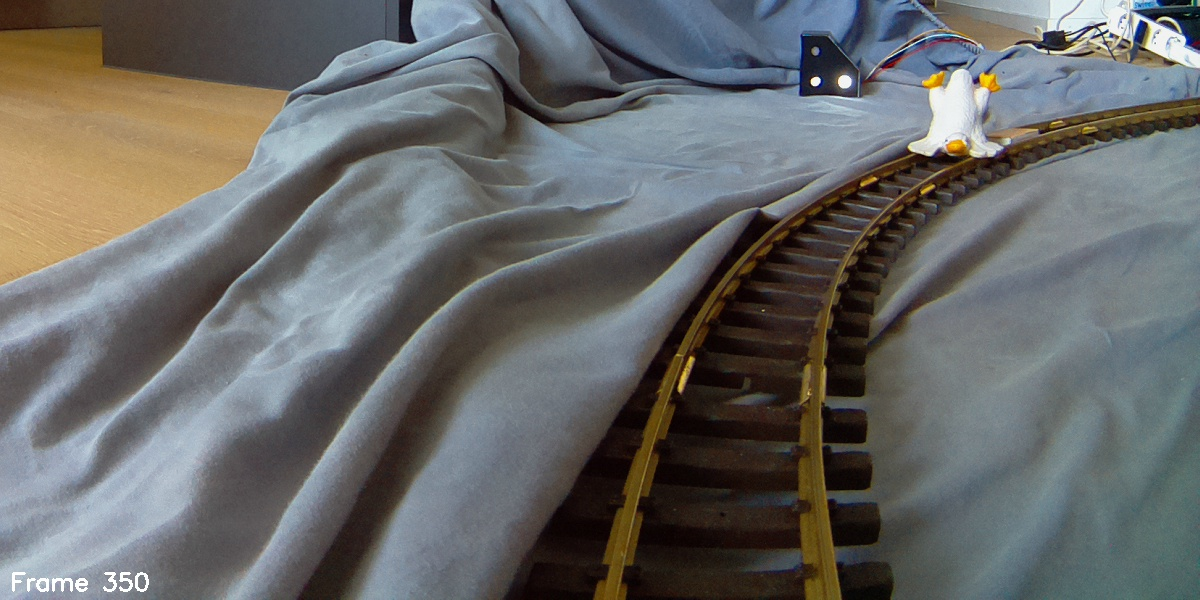Ente: (906, 66, 1006, 162)
Halt: (800, 29, 861, 99)
